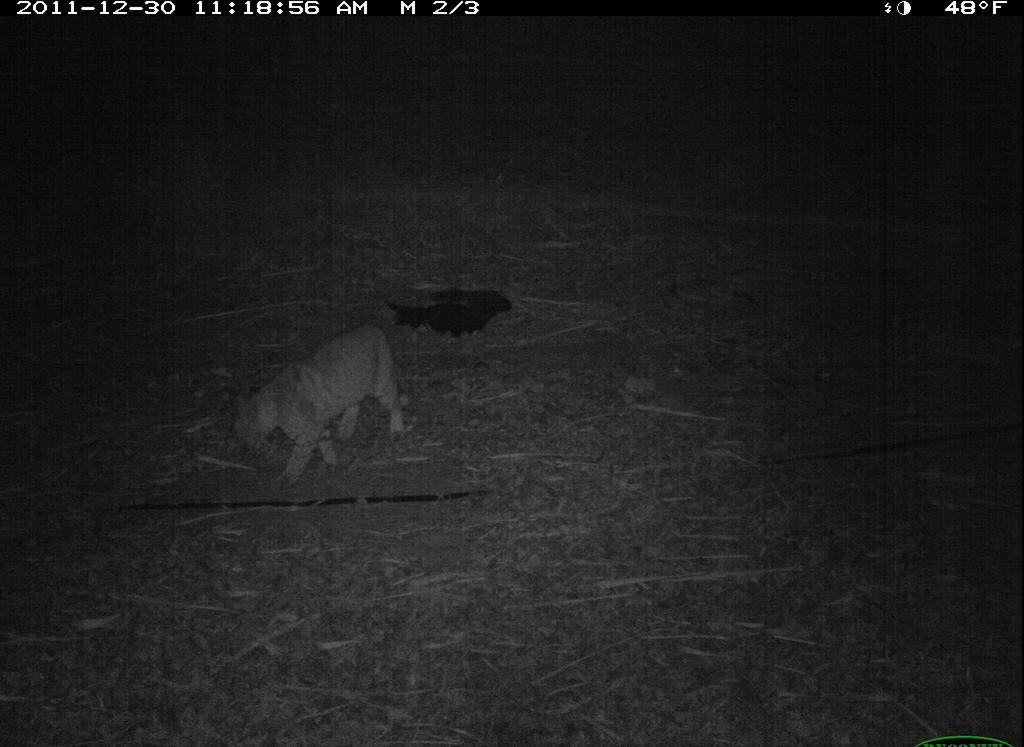bobcat: (212, 309, 417, 508)
